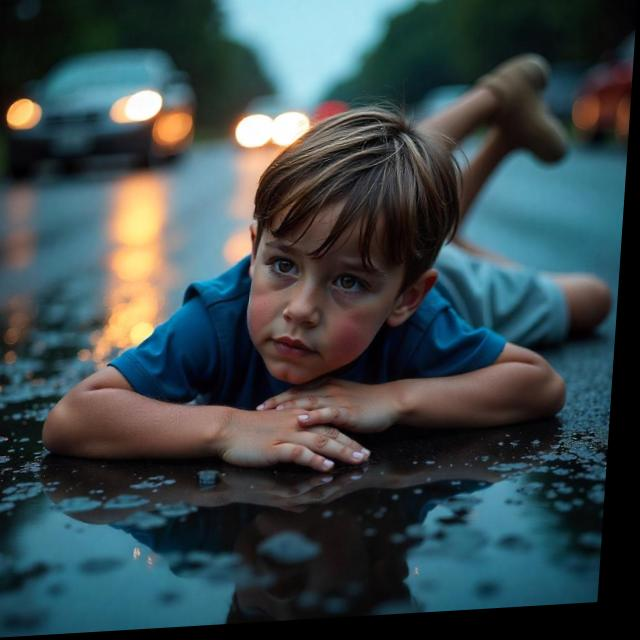injury: (238, 106, 471, 391)
no injury: (35, 61, 613, 473)
